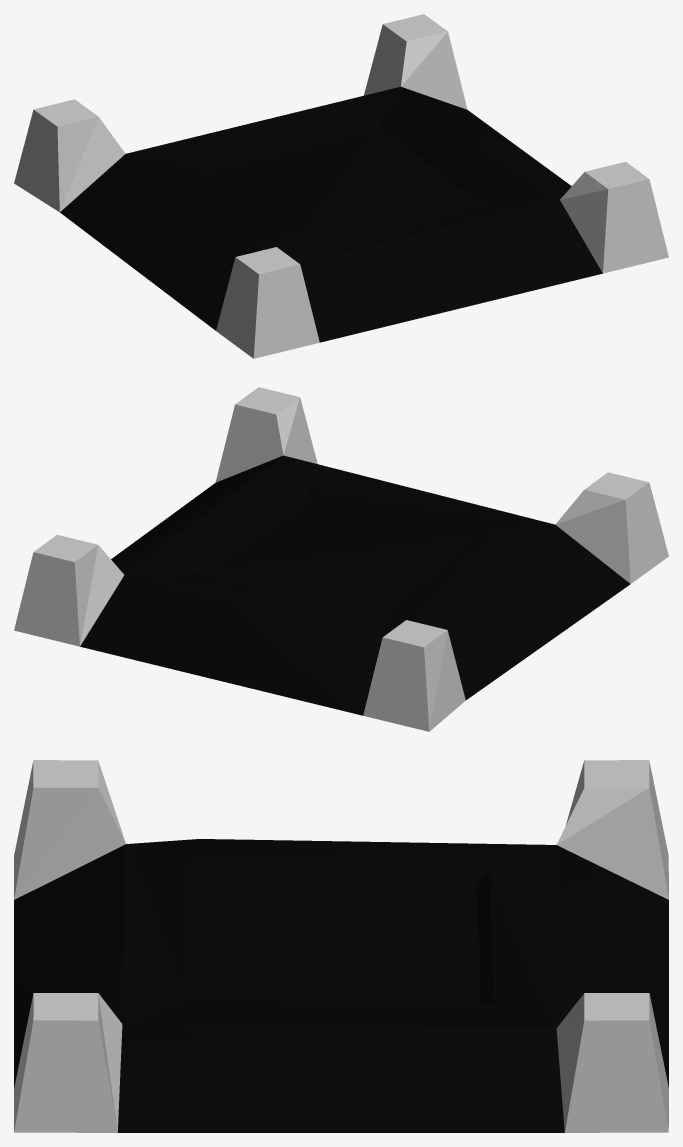
File: crypt_floor_dais_collision_01.fbx
The picture shows the model from 3 angles, top to bottom: view 1: azimuth 30°, elevation 25°; view 2: azimuth 150°, elevation 25°; view 3: azimuth 270°, elevation 25°; orthographic projection. The views are drawn at different scales.
Visible parts, largest first — view 1: crypt_floor_dais_collision_01-0; view 2: crypt_floor_dais_collision_01-0; view 3: crypt_floor_dais_collision_01-0.
Boxes of the visible parts, x1,y1,x2,y2 form: crypt_floor_dais_collision_01-0: (14,14,668,358); crypt_floor_dais_collision_01-0: (14,387,668,731); crypt_floor_dais_collision_01-0: (14,760,668,1132).
Size of the model in its own units: 11.71 by 2.05 by 11.7.
